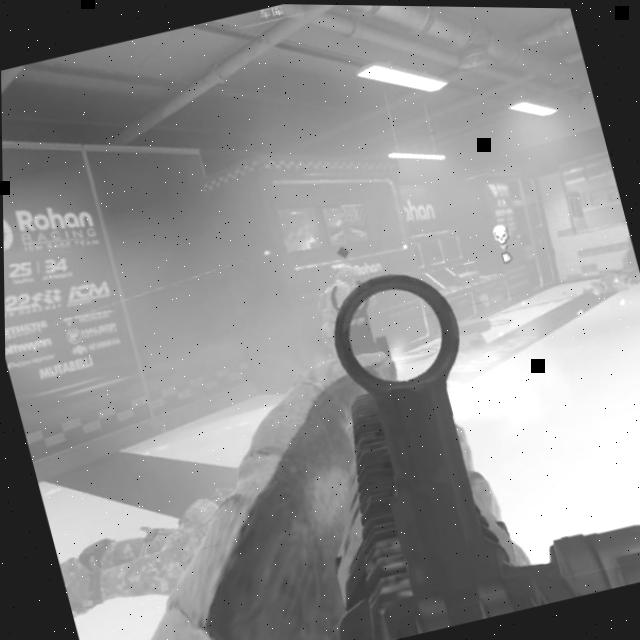MW2_body: (302, 241, 370, 312)
